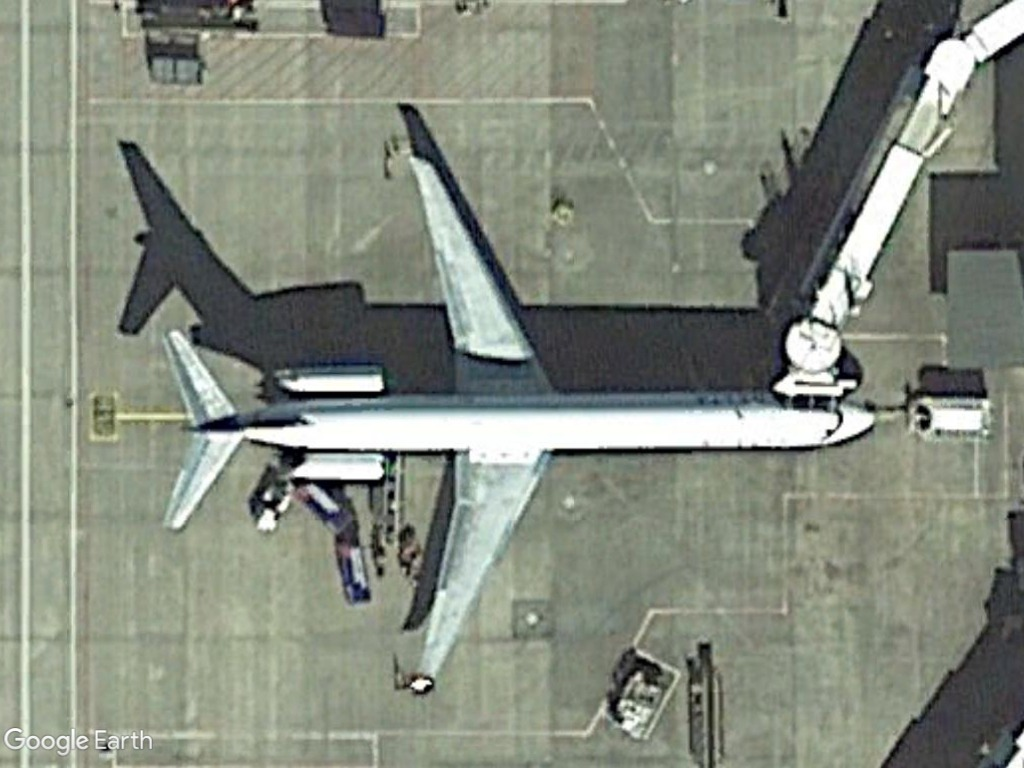chartered: (143, 146, 882, 699)
